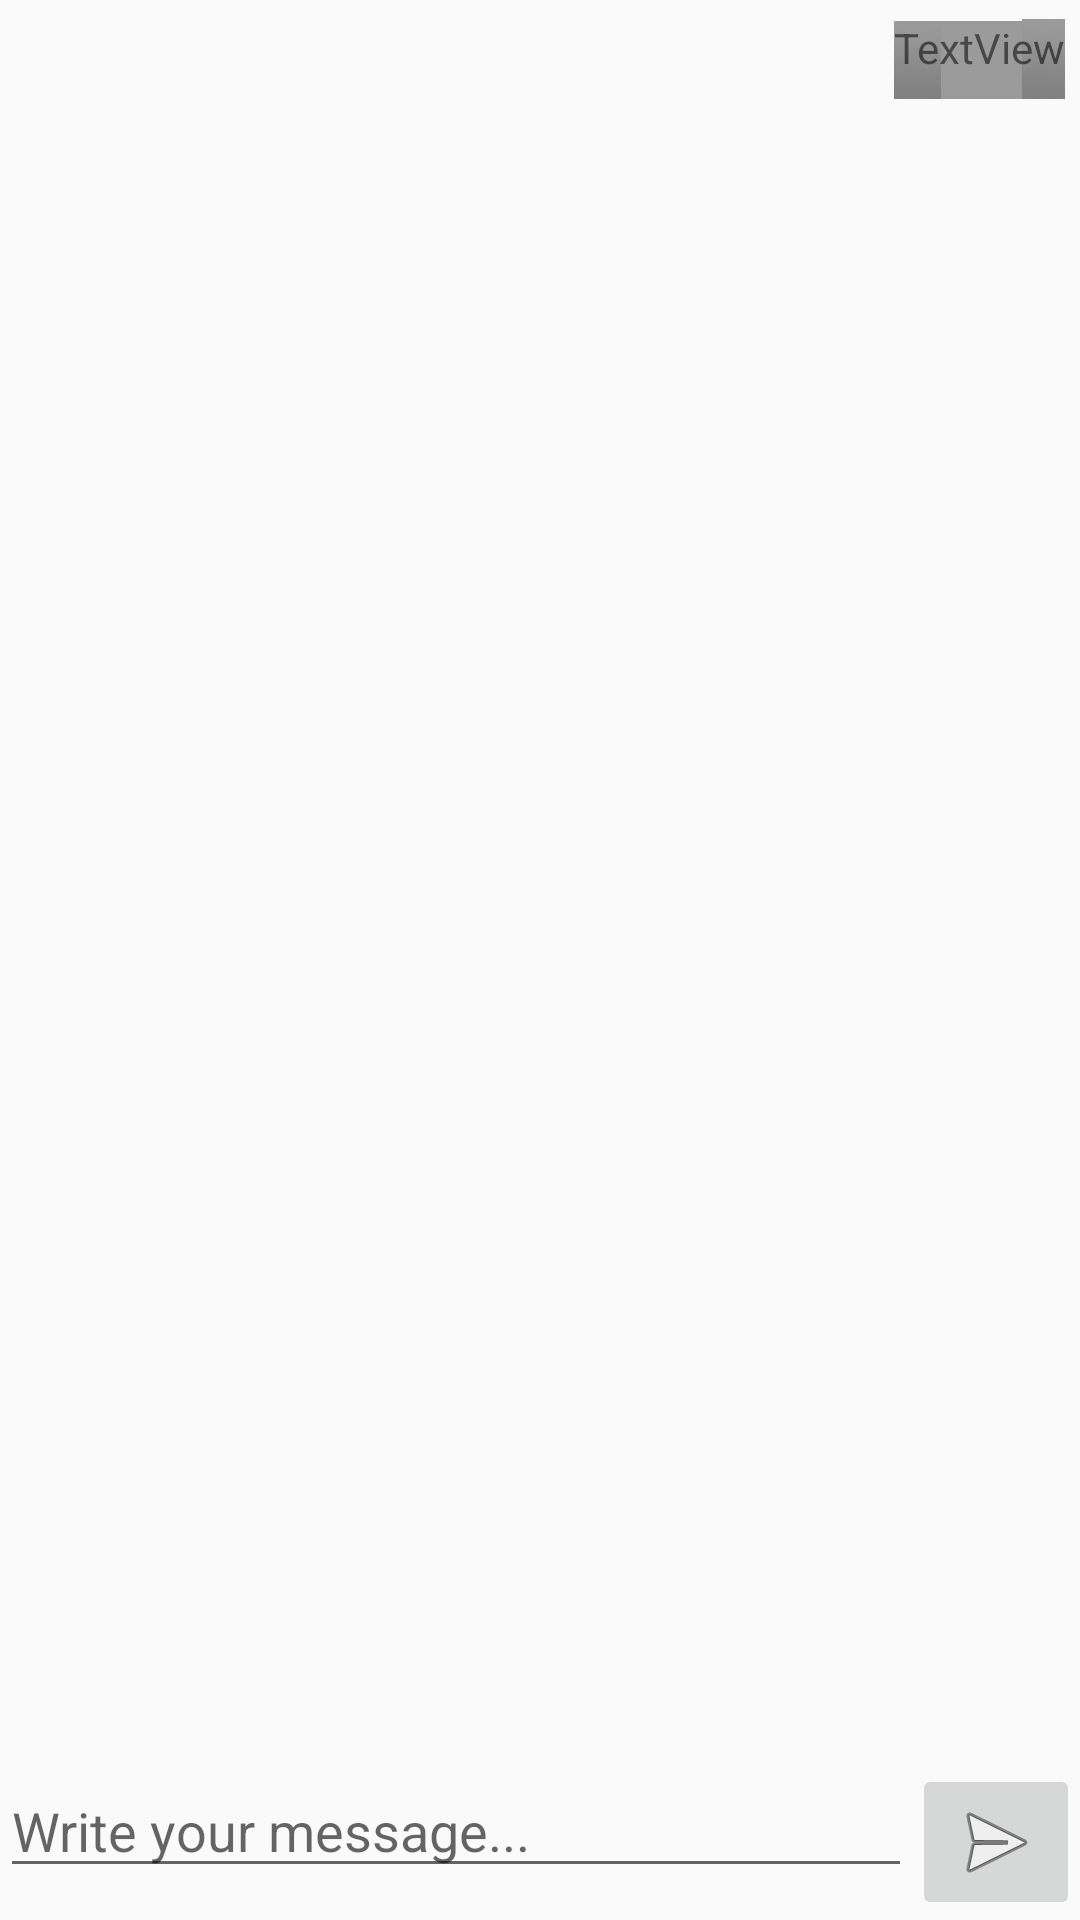

Where icons sit on this 1080 x 1920 app screen, as (x1, y1, x2, y2):
send: (924, 1782, 1068, 1902)
